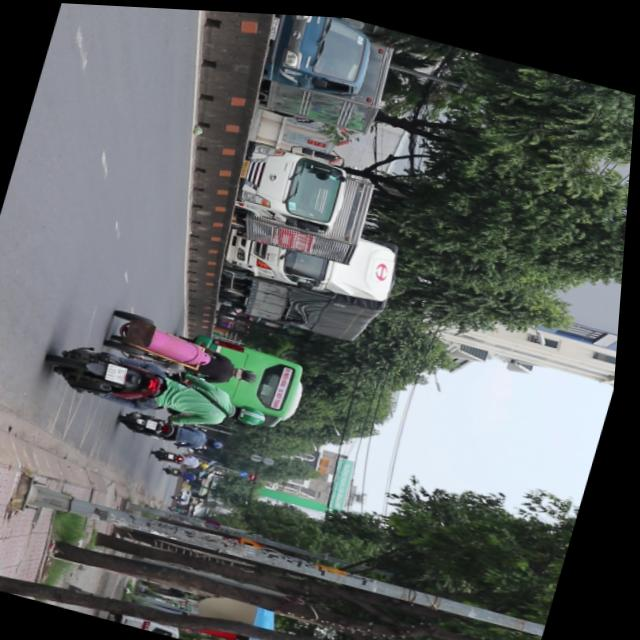helmet: (237, 396, 275, 424)
licenseplate: (43, 332, 283, 440)
nohelmet: (111, 360, 134, 381)
